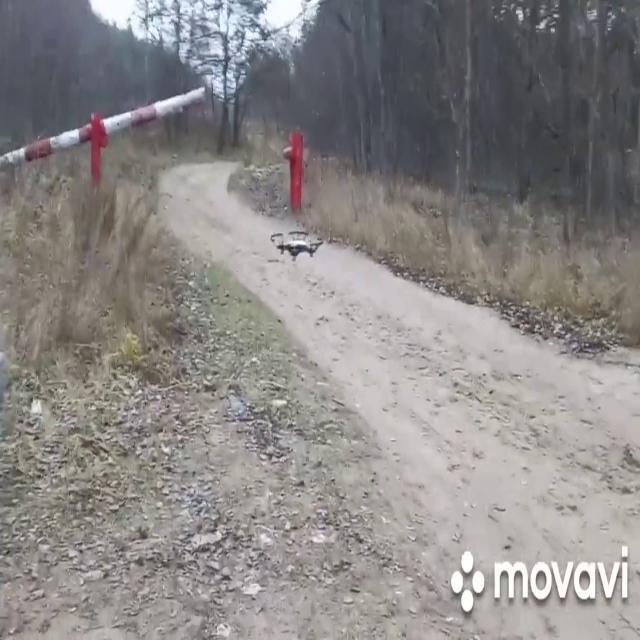Drons: (269, 230, 324, 262)
